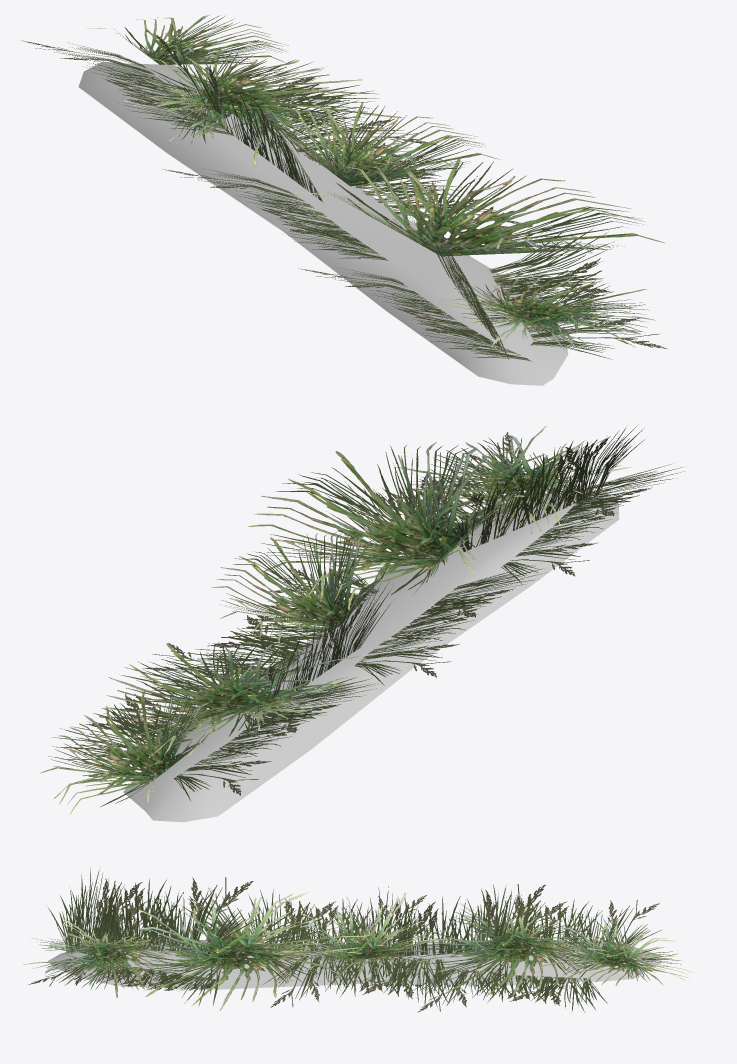
File: planthedge_02.fbx
The picture shows the model from 3 angles, top to bottom: view 1: azimuth 30°, elevation 25°; view 2: azimuth 150°, elevation 25°; view 3: azimuth 270°, elevation 25°; orthographic projection. The views are drawn at different scales.
Visible parts, largest first — view 1: planthedge_02; view 2: planthedge_02; view 3: planthedge_02.
Part boxes in pixels (x1=…): planthedge_02: x1=22, y1=14, x2=667, y2=385; planthedge_02: x1=40, y1=424, x2=685, y2=822; planthedge_02: x1=23, y1=867, x2=697, y2=1012.
Size of the model in its own units: 0.7324 by 0.2653 by 1.64.
